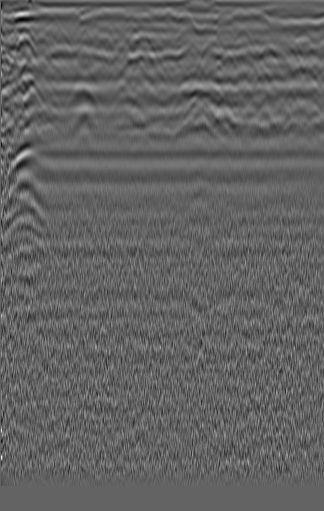상수: (281, 58, 320, 84)
오수: (4, 31, 38, 64)
우수: (119, 31, 165, 78)
